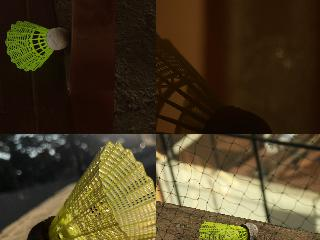shuttlecock: (26, 139, 155, 239), (156, 27, 275, 133), (5, 21, 70, 71), (198, 220, 258, 239)
